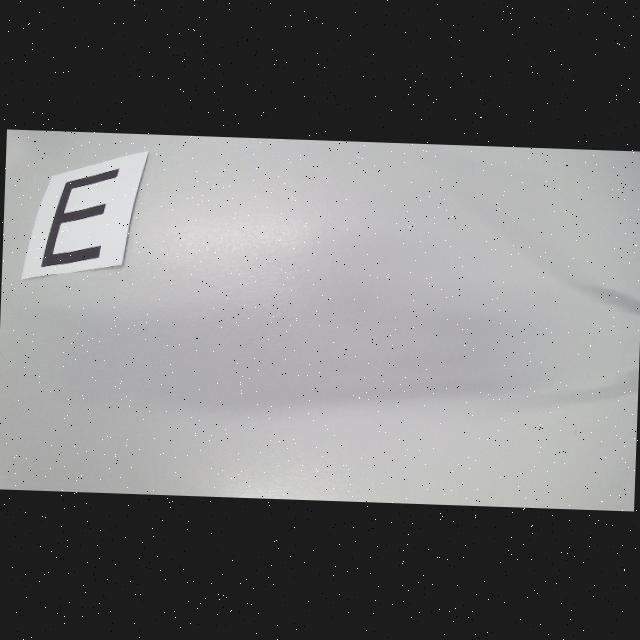FAKE: (40, 165, 119, 270)
